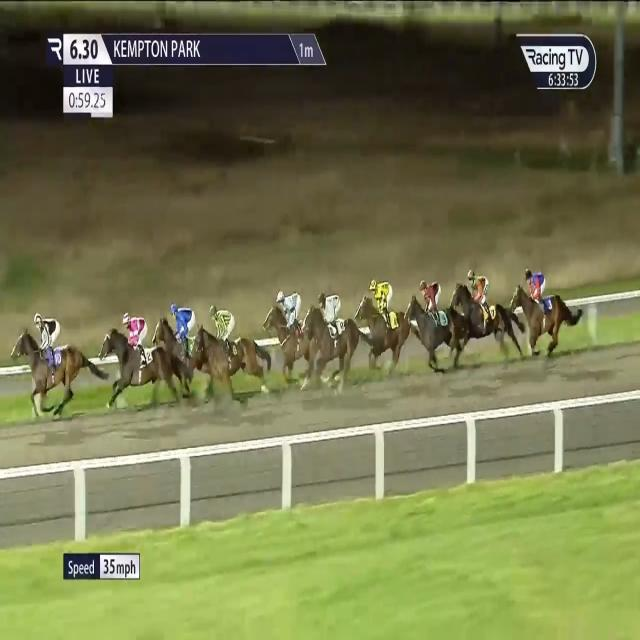horses-racing: (16, 310, 101, 415), (102, 310, 180, 404), (453, 266, 519, 362), (509, 268, 581, 346), (198, 305, 264, 390), (304, 292, 365, 383), (408, 278, 470, 364), (149, 298, 206, 389), (357, 273, 407, 371), (266, 289, 318, 373)
